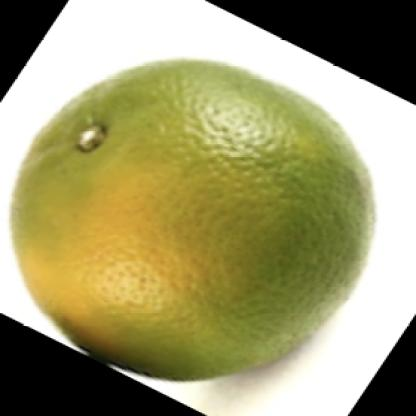fresh: (13, 59, 372, 380)
